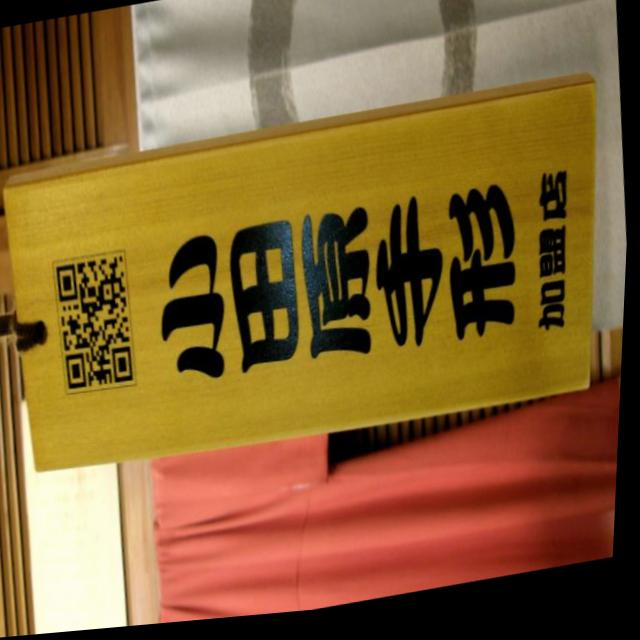qrcode: (55, 256, 141, 395)
